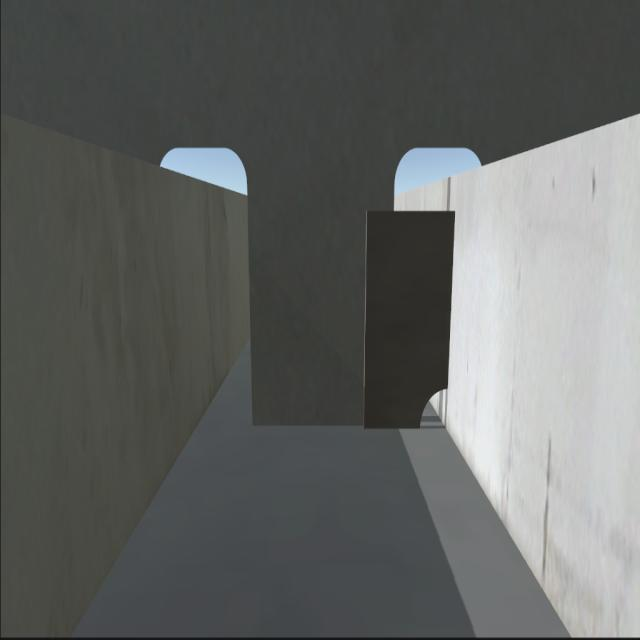fillet_hole: (417, 387, 450, 435)
fillet_yong_jeop_jang: (255, 419, 418, 432)
longi_yong_jeop_jang: (446, 220, 460, 391)
plate_CP01: (368, 213, 452, 426)
